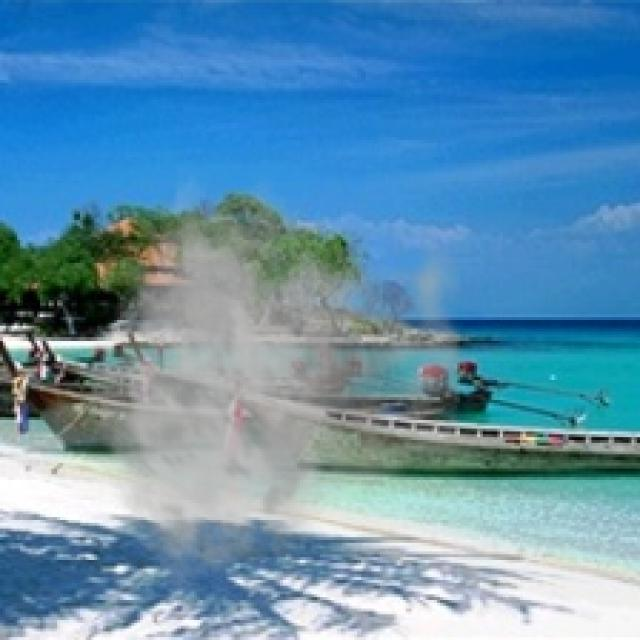smoke: (89, 168, 500, 592)
